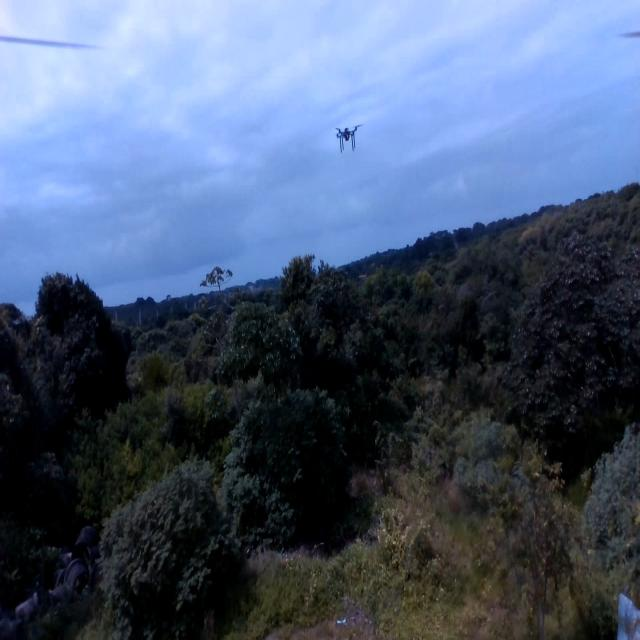-uav-: (328, 113, 368, 160)
